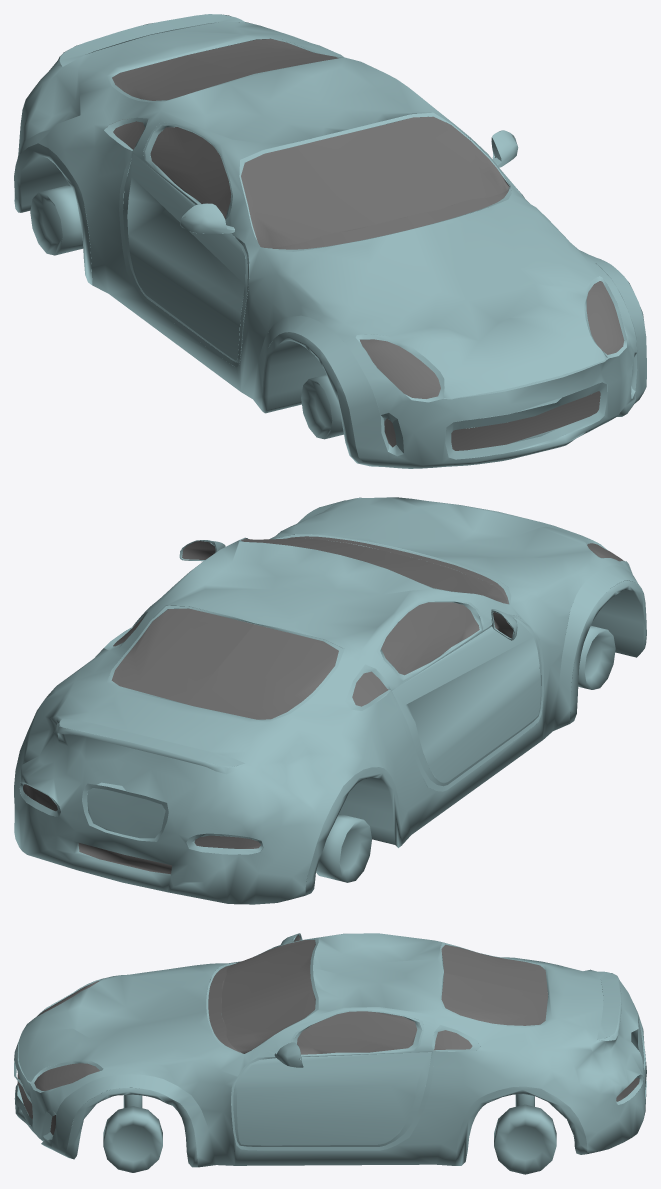
Rendered from OldCar.fbx.
3 views of the same model, one above another, from view 1: azimuth 30°, elevation 25°; view 2: azimuth 150°, elevation 25°; view 3: azimuth 270°, elevation 25° (orthographic). The views are drawn at different scales.
Visible parts, largest first — view 1: 350zrelease; view 2: 350zrelease; view 3: 350zrelease.
Part boxes in pixels (box(x1,y1,x2,y2)): 350zrelease: box(14, 14, 646, 468); 350zrelease: box(14, 497, 646, 904); 350zrelease: box(14, 933, 646, 1174).
Size of the model in its own units: 8.84 by 4.95 by 18.98.
